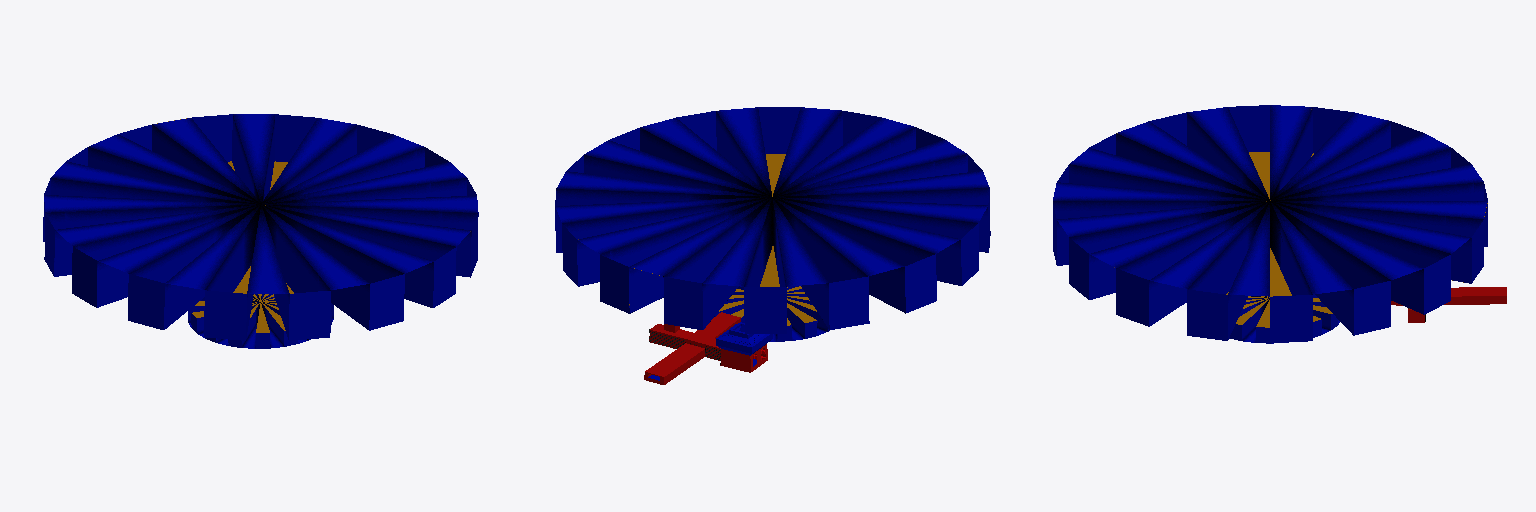
3 views of the same model, side by side, from view 1: azimuth 30°, elevation 25°; view 2: azimuth 150°, elevation 25°; view 3: azimuth 270°, elevation 25° (orthographic).
Visible parts, largest first — view 1: Plane; view 2: Plane; view 3: Plane.
Part boxes in pixels (bbox=[...]): Plane: bbox=[43, 114, 478, 348]; Plane: bbox=[555, 107, 990, 384]; Plane: bbox=[1053, 105, 1506, 343].
Bounding box in the file's own units: 10990 × 3286 × 11451.
Materials: 13 (4 with a texture image).